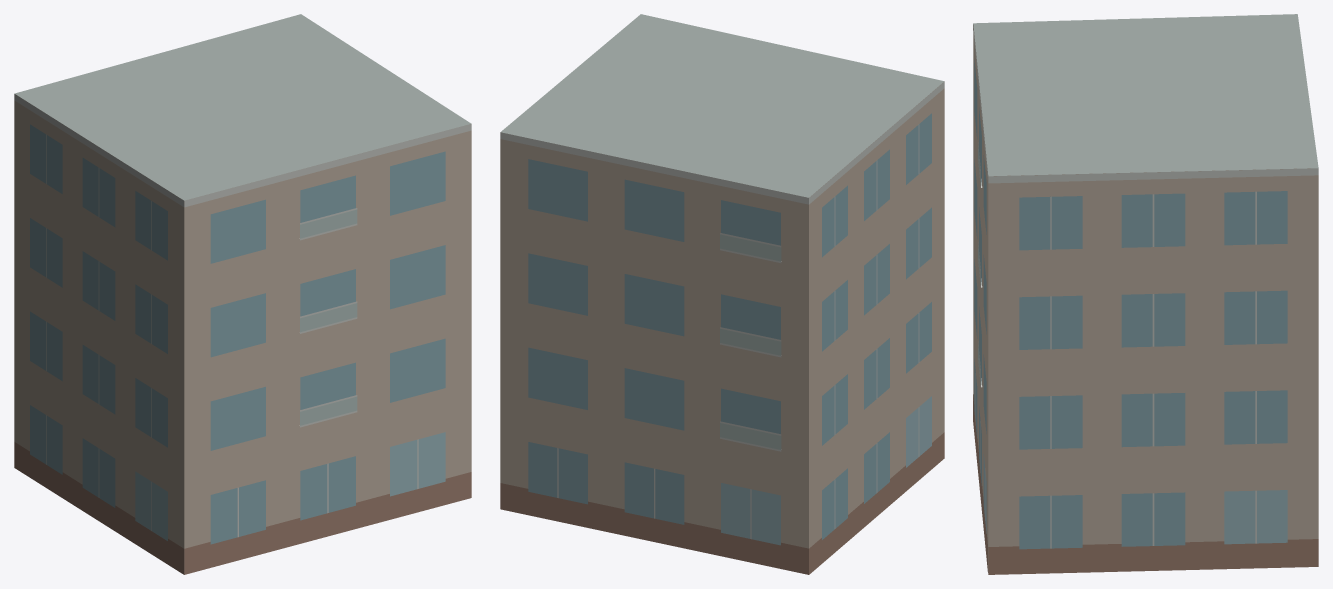
The model's file is survey-upis-32697502.glb.
The picture shows the model from 3 angles, left to right: view 1: azimuth 30°, elevation 25°; view 2: azimuth 150°, elevation 25°; view 3: azimuth 270°, elevation 25°; orthographic projection. The views are drawn at different scales.
Visible parts, largest first — view 1: survey-upis-32697502.tmp; view 2: survey-upis-32697502.tmp; view 3: survey-upis-32697502.tmp.
Part boxes in pixels (bbox=[...]): survey-upis-32697502.tmp: bbox=[14, 14, 471, 574]; survey-upis-32697502.tmp: bbox=[500, 14, 944, 574]; survey-upis-32697502.tmp: bbox=[973, 14, 1318, 574].
Bounding box in the file's own units: 11.79 × 13.5 × 10.61.
